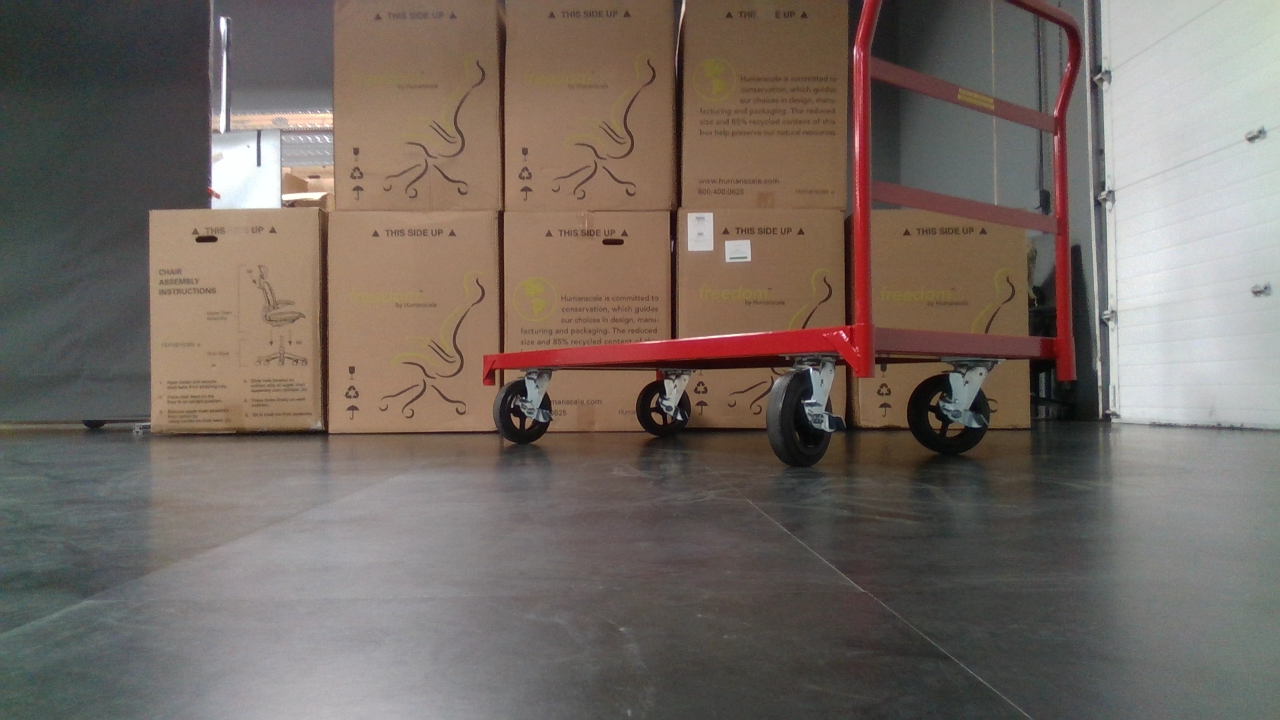Dolly: (484, 0, 1081, 466)
Wheel: (763, 365, 845, 465), (908, 365, 991, 454), (490, 373, 555, 442), (638, 377, 694, 437)
